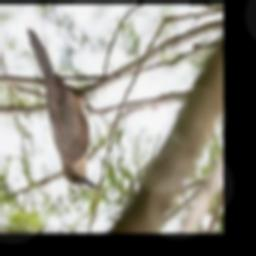Cuckoo: (27, 29, 95, 187)
